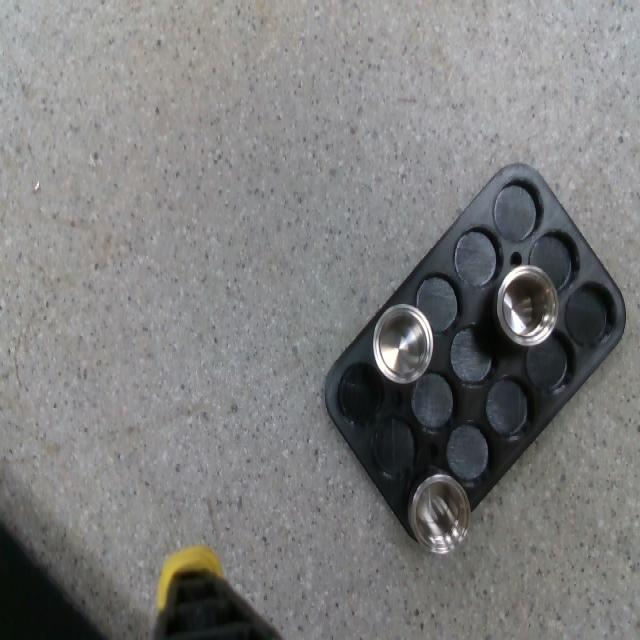sensor: (495, 264, 558, 344), (373, 304, 433, 385), (409, 474, 470, 552)
